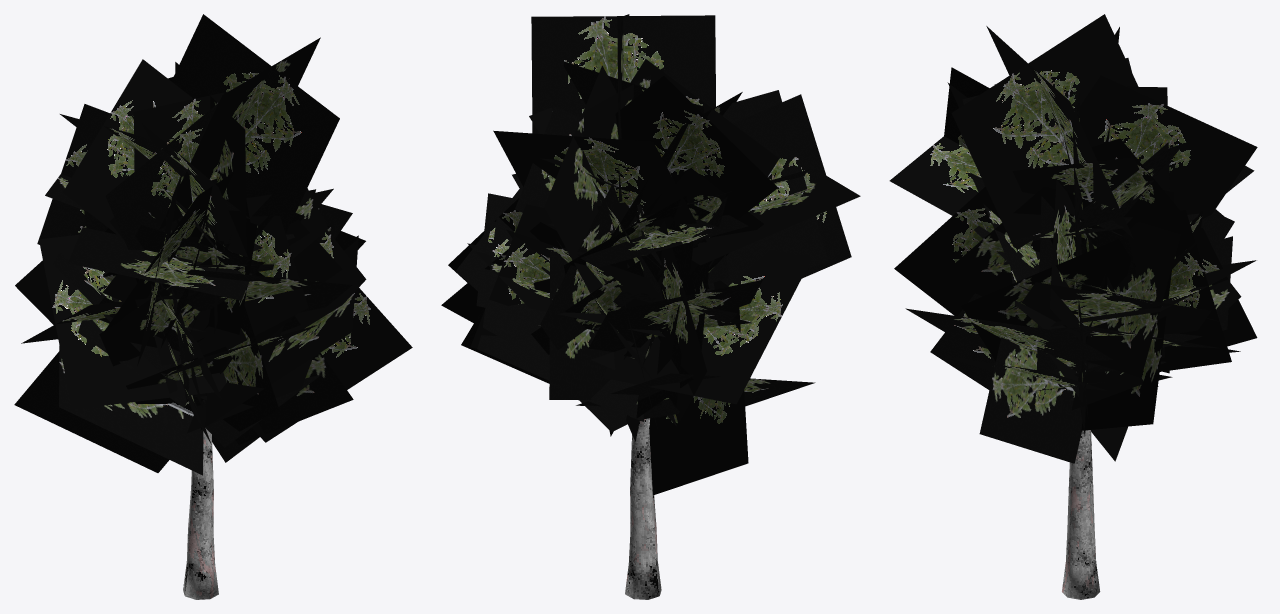
The model's file is fol1.glb.
The picture shows the model from 3 angles, left to right: view 1: azimuth 30°, elevation 25°; view 2: azimuth 150°, elevation 25°; view 3: azimuth 270°, elevation 25°; orthographic projection. The views are drawn at different scales.
Visible parts, largest first — view 1: BirchSmallLOD0; view 2: BirchSmallLOD0; view 3: BirchSmallLOD0.
Part boxes in pixels (x1,y1,x2,y2): BirchSmallLOD0: (14, 14, 412, 599); BirchSmallLOD0: (441, 14, 860, 599); BirchSmallLOD0: (889, 14, 1257, 599).
Size of the model in its own units: 3.44 by 5.34 by 3.12.
Materials: 2 (2 with a texture image).
